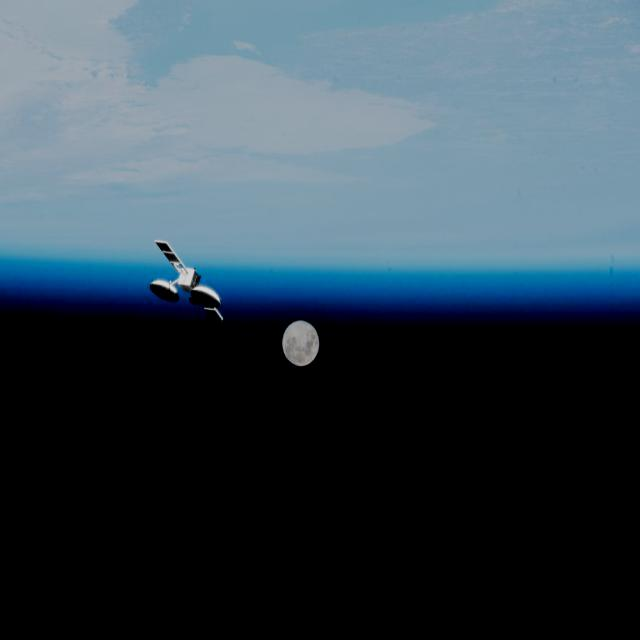satellite: (144, 235, 240, 341)
